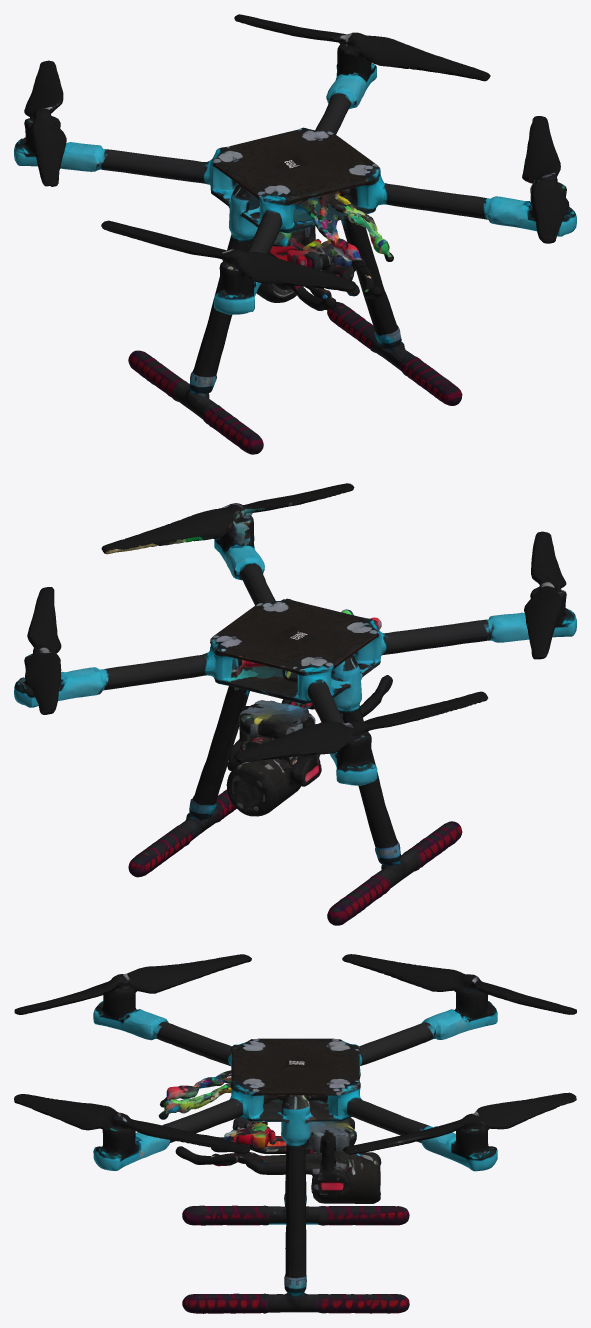
File: phoenix.glb
The picture shows the model from 3 angles, top to bottom: view 1: azimuth 30°, elevation 25°; view 2: azimuth 150°, elevation 25°; view 3: azimuth 270°, elevation 25°; orthographic projection. The views are drawn at different scales.
Parts seen in each view (by area): view 1: textured_mesh.obj; view 2: textured_mesh.obj; view 3: textured_mesh.obj.
Part boxes in pixels (<box>): textured_mesh.obj: <box>14,14,576,454</box>; textured_mesh.obj: <box>14,483,576,925</box>; textured_mesh.obj: <box>14,954,576,1313</box>.
Bounding box in the file's own units: 1.65 × 0.8704 × 1.99.
Materials: 1 (1 with a texture image).
